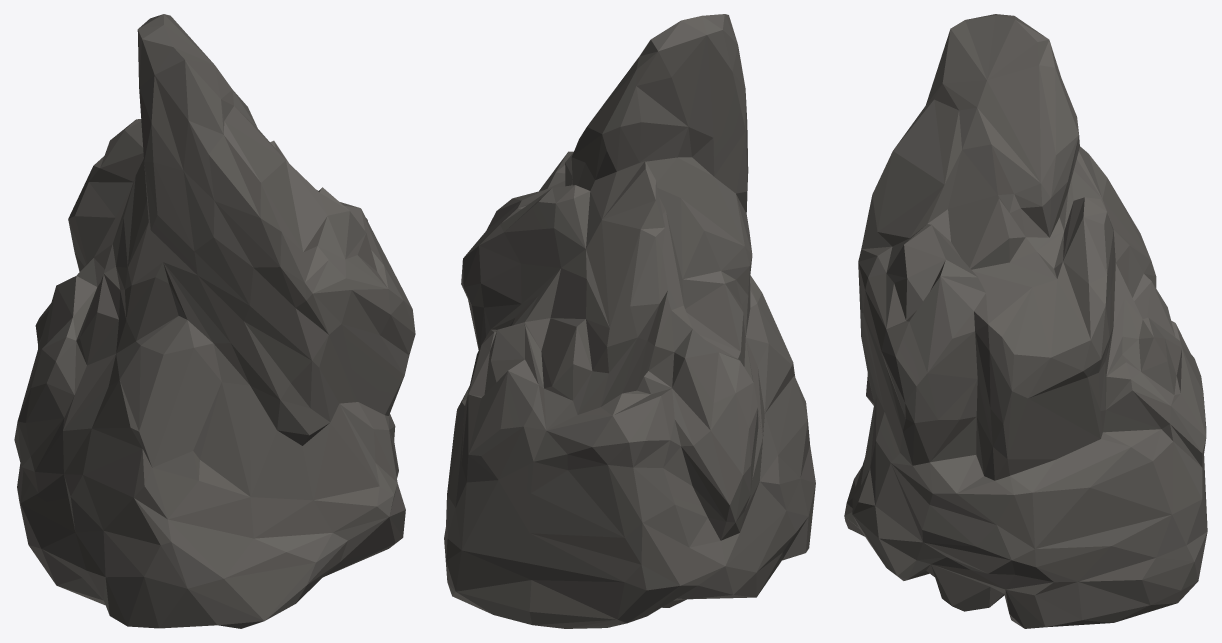
Rendered from env_cliff2.gltf.
The picture shows the model from 3 angles, left to right: view 1: azimuth 30°, elevation 25°; view 2: azimuth 150°, elevation 25°; view 3: azimuth 270°, elevation 25°; orthographic projection. The views are drawn at different scales.
Parts seen in each view (by area): view 1: env_cliff2; view 2: env_cliff2; view 3: env_cliff2.
Boxes of the visible parts, box(x1,y1,x2,y2) form: env_cliff2: box(14, 14, 415, 628); env_cliff2: box(444, 14, 815, 628); env_cliff2: box(844, 14, 1207, 628).
Size of the model in its own units: 11.5 by 20.55 by 12.39.
1 material, 1 textured.
